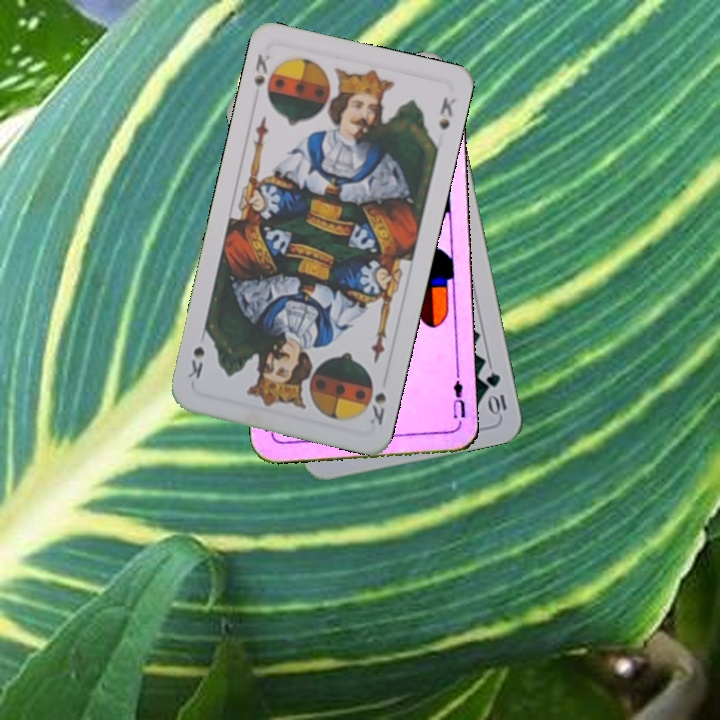EU: (448, 377, 468, 421)
G10: (482, 368, 510, 418)
SK: (250, 48, 274, 92), (364, 388, 389, 428)
